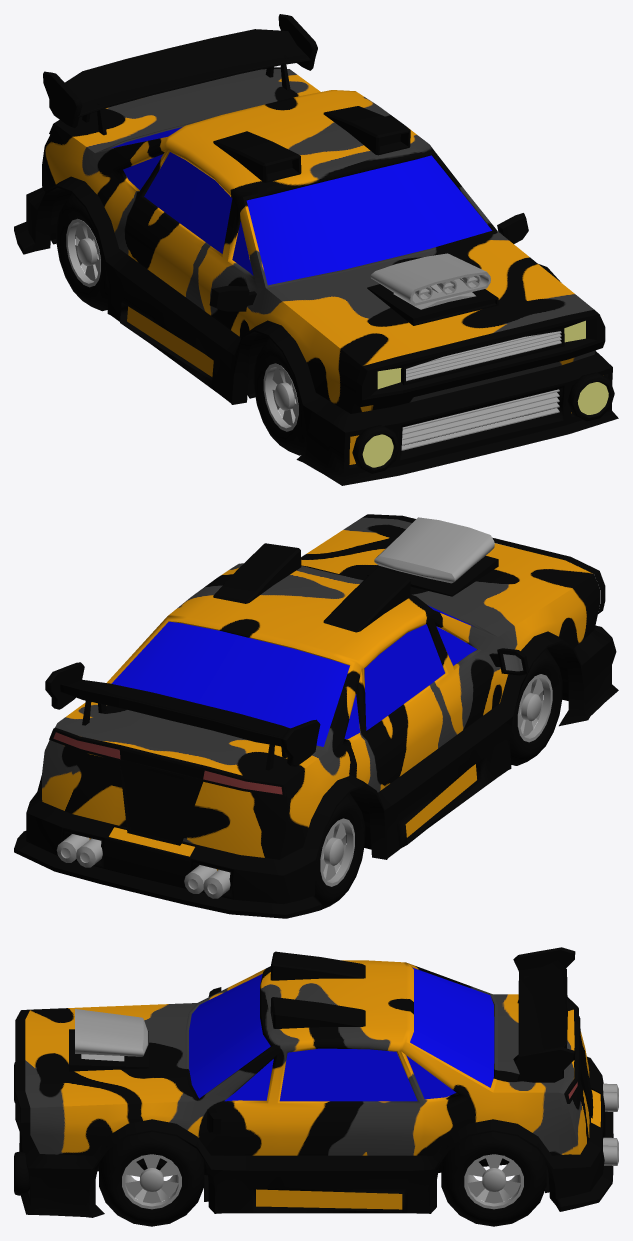
Rendered from Muscle Evolution4 Black ArmyBlackOrange Blue LightGrey.glb.
The picture shows the model from 3 angles, top to bottom: view 1: azimuth 30°, elevation 25°; view 2: azimuth 150°, elevation 25°; view 3: azimuth 270°, elevation 25°; orthographic projection. The views are drawn at different scales.
Visible parts, largest first — view 1: evo4_sillPartR_f1_dupl, evo4_evo4_polySurface1_f1_dupl, evo4_frontGlass_f1_dupl, evo4_Spoiler4_f1_dupl, evo4_frontBlockGrid_f1_dupl, evo4_glasseBigR_f1_dupl, evo4_engine_f1_dupl, evo4_front_down_grid_f1_dupl, evo4_airtrap_r_f1_dupl, evo4_airtrap_l_f1_dupl, evo4_front_up_grid_f1_dupl, evo4_tire_rf_f1_dupl (+11 smaller); view 2: evo4_sillPartR_f1_dupl, evo4_evo4_polySurface1_f1_dupl, evo4_BackGlassGlass_f1_dupl, evo4_Spoiler4_f1_dupl, evo4_blockBackLights_f1_dupl, evo4_engine_f1_dupl, evo4_glasseBigR_f1_dupl, evo4_airtrap_r_f1_dupl, evo4_airtrap_l_f1_dupl, evo4_tire_rf2_f1_dupl, evo4_tire_rf_f1_dupl, evo4_rim_A_rf_f1_dupl (+9 smaller); view 3: evo4_sillPartR_f1_dupl, evo4_evo4_polySurface1_f1_dupl, evo4_BackGlassGlass_f1_dupl, evo4_Spoiler4_f1_dupl, evo4_glasseBigL_f1_dupl, evo4_frontGlass_f1_dupl, evo4_tire_lf_f1_dupl, evo4_tire_lb_f1_dupl, evo4_engine_f1_dupl, evo4_rim_A_lf_f1_dupl, evo4_rim_A_lb_f1_dupl, evo4_airtrap_l_f1_dupl (+9 smaller).
Part boxes in pixels (x1,y1,x2,y2): evo4_sillPartR_f1_dupl: (42, 69, 595, 464); evo4_evo4_polySurface1_f1_dupl: (14, 176, 618, 485); evo4_frontGlass_f1_dupl: (246, 155, 491, 285); evo4_Spoiler4_f1_dupl: (43, 14, 317, 135); evo4_frontBlockGrid_f1_dupl: (354, 309, 605, 407); evo4_glasseBigR_f1_dupl: (144, 152, 232, 253); evo4_engine_f1_dupl: (370, 253, 490, 309); evo4_front_down_grid_f1_dupl: (401, 389, 559, 450); evo4_airtrap_r_f1_dupl: (213, 131, 301, 182); evo4_airtrap_l_f1_dupl: (323, 106, 410, 155); evo4_front_up_grid_f1_dupl: (406, 331, 561, 381); evo4_tire_rf_f1_dupl: (56, 194, 109, 311); evo4_sillPartR_f1_dupl: (42, 517, 599, 870); evo4_evo4_polySurface1_f1_dupl: (14, 630, 618, 918); evo4_BackGlassGlass_f1_dupl: (111, 621, 349, 746); evo4_Spoiler4_f1_dupl: (45, 662, 320, 770); evo4_blockBackLights_f1_dupl: (49, 727, 286, 845); evo4_engine_f1_dupl: (374, 517, 494, 583); evo4_glasseBigR_f1_dupl: (364, 624, 444, 730); evo4_airtrap_r_f1_dupl: (323, 567, 410, 632); evo4_airtrap_l_f1_dupl: (213, 543, 301, 603); evo4_tire_rf2_f1_dupl: (509, 648, 562, 765); evo4_tire_rf_f1_dupl: (315, 793, 365, 909); evo4_rim_A_rf_f1_dupl: (517, 674, 552, 742); evo4_sillPartR_f1_dupl: (25, 960, 600, 1209); evo4_evo4_polySurface1_f1_dupl: (19, 1056, 613, 1217); evo4_BackGlassGlass_f1_dupl: (410, 967, 494, 1087); evo4_Spoiler4_f1_dupl: (513, 947, 575, 1082); evo4_glasseBigL_f1_dupl: (279, 1048, 417, 1101); evo4_frontGlass_f1_dupl: (189, 974, 270, 1098); evo4_tire_lf_f1_dupl: (99, 1132, 204, 1226); evo4_tire_lb_f1_dupl: (441, 1132, 546, 1226); evo4_engine_f1_dupl: (75, 1009, 148, 1061); evo4_rim_A_lf_f1_dupl: (122, 1154, 181, 1209); evo4_rim_A_lb_f1_dupl: (464, 1154, 523, 1209); evo4_airtrap_l_f1_dupl: (270, 997, 365, 1028).
Bounding box in the file's own units: 177 × 120 × 337.
Materials: 8 (1 with a texture image).
